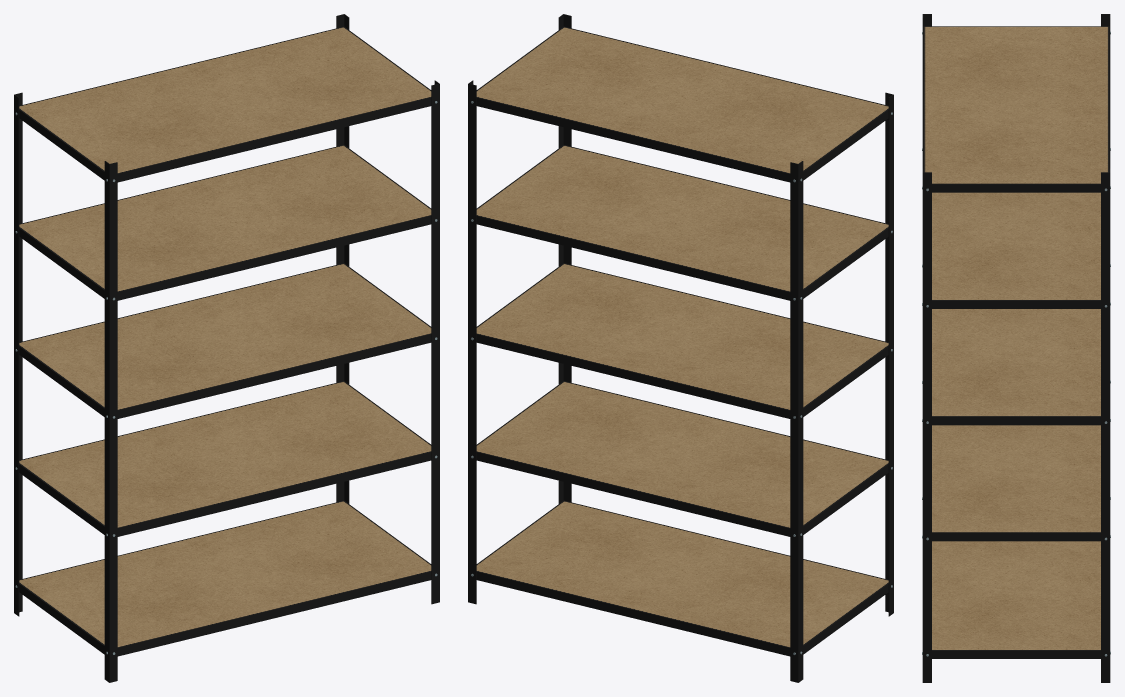
The model's file is Rack.FBX.
The picture shows the model from 3 angles, left to right: view 1: azimuth 30°, elevation 25°; view 2: azimuth 150°, elevation 25°; view 3: azimuth 270°, elevation 25°; orthographic projection.
Visible parts, largest first — view 1: Rack; view 2: Rack; view 3: Rack.
Boxes of the visible parts, left/top/right/bottom form: Rack: left=14, top=14, right=439, bottom=682; Rack: left=468, top=14, right=893, bottom=682; Rack: left=922, top=14, right=1110, bottom=682.
Bounding box in the file's own units: 122 × 183 × 61.36.
